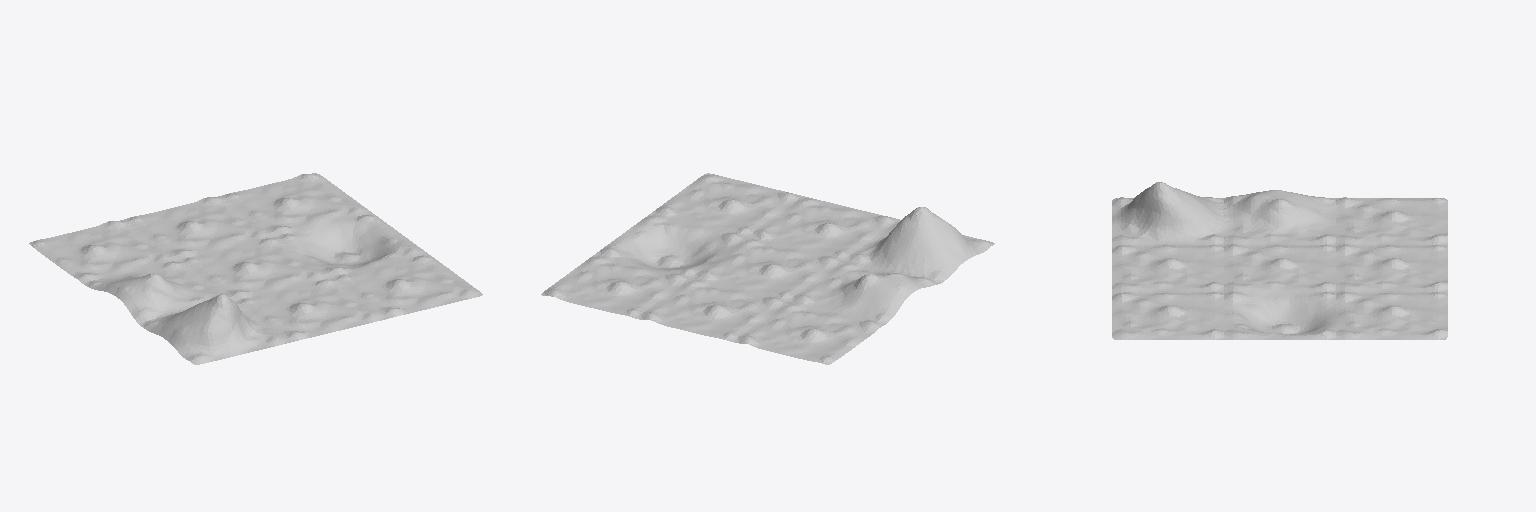
Rendered from terrain.obj.
3 renders of one model, left to right at view 1: azimuth 30°, elevation 25°; view 2: azimuth 150°, elevation 25°; view 3: azimuth 270°, elevation 25°, orthographic.
Visible parts, largest first — view 1: Plane; view 2: Plane; view 3: Plane.
Part boxes in pixels (bbox=[...]): Plane: bbox=[29, 173, 482, 364]; Plane: bbox=[541, 173, 994, 364]; Plane: bbox=[1112, 182, 1447, 339].
Size of the model in its own units: 600 by 109 by 600.